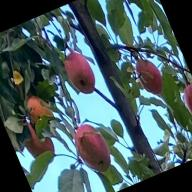Apples: (68, 118, 116, 178), (18, 118, 59, 168), (60, 48, 100, 98), (23, 92, 59, 136), (133, 56, 167, 98), (180, 82, 192, 128)
